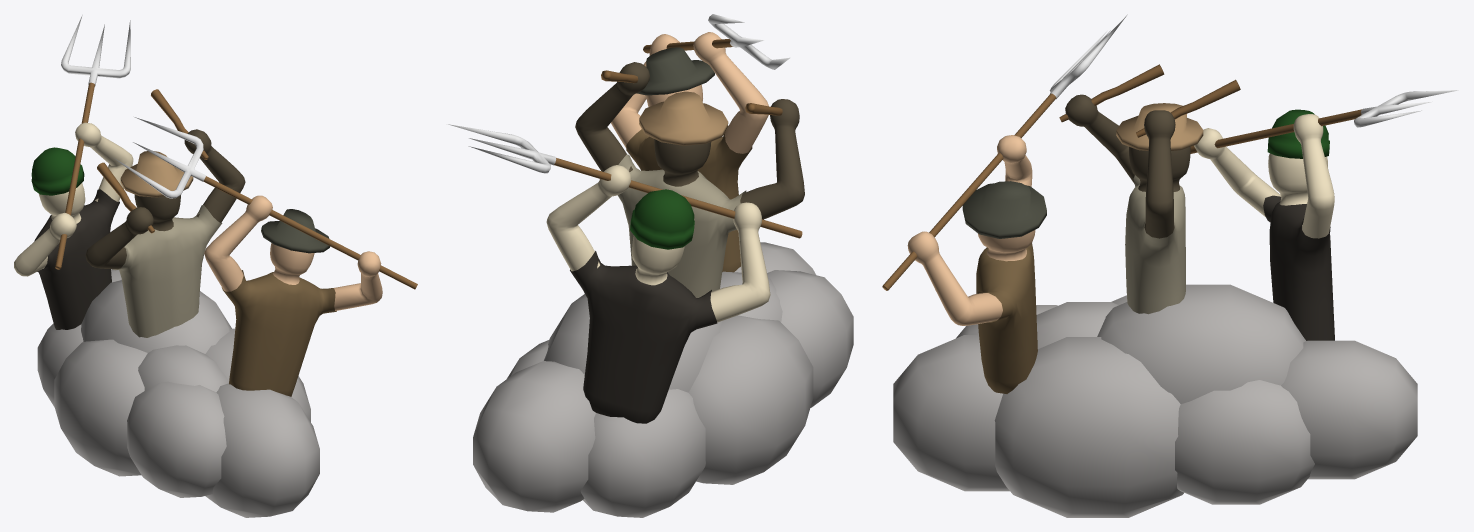
The model's file is Mobs.fbx.
3 renders of one model, left to right at view 1: azimuth 30°, elevation 25°; view 2: azimuth 150°, elevation 25°; view 3: azimuth 270°, elevation 25°, orthographic. The views are drawn at different scales.
Parts seen in each view (by area): view 1: Cube, Cube.001, Cube.003, Cube.002, Cube.004, Cube.005, Cube.006, Cylinder.001, Cylinder.002, Cylinder, Cube.008, Cube.007 (+4 smaller); view 2: Cube, Cube.002, Cube.005, Cube.006, Cube.003, Cube.004, Cylinder.002, Cube.001, Cylinder.001, Cylinder, Cube.010, Cube.009 (+1 smaller); view 3: Cube, Cube.006, Cube.002, Cube.001, Cube.005, Cube.003, Cube.004, Cylinder, Cylinder.002, Cube.007, Cylinder.001, Cube.010 (+4 smaller).
Boxes of the visible parts, left/top/right/bottom form: Cube: left=37, top=269, right=319, bottom=517; Cube.001: left=221, top=270, right=336, bottom=396; Cube.003: left=113, top=205, right=222, bottom=337; Cube.002: left=34, top=189, right=119, bottom=329; Cube.004: left=204, top=195, right=382, bottom=310; Cube.005: left=85, top=129, right=245, bottom=269; Cube.006: left=14, top=122, right=133, bottom=276; Cylinder.001: left=31, top=147, right=84, bottom=195; Cylinder.002: left=120, top=151, right=193, bottom=197; Cylinder: left=261, top=209, right=330, bottom=253; Cube.008: left=114, top=117, right=206, bottom=198; Cube.007: left=203, top=176, right=417, bottom=289; Cube: left=473, top=242, right=853, bottom=517; Cube.002: left=570, top=251, right=717, bottom=423; Cube.005: left=575, top=62, right=804, bottom=219; Cube.006: left=546, top=165, right=770, bottom=322; Cube.003: left=617, top=154, right=746, bottom=297; Cube.004: left=611, top=32, right=768, bottom=153; Cylinder.002: left=639, top=91, right=728, bottom=145; Cube.001: left=626, top=125, right=752, bottom=272; Cylinder.001: left=630, top=189, right=694, bottom=249; Cylinder: left=637, top=47, right=714, bottom=95; Cube.010: left=448, top=124, right=556, bottom=173; Cube.009: left=554, top=158, right=802, bottom=238; Cube: left=893, top=284, right=1417, bottom=517; Cube.006: left=1194, top=114, right=1334, bottom=238; Cube.002: left=1263, top=195, right=1334, bottom=340; Cube.001: left=976, top=243, right=1037, bottom=393; Cube.005: left=1065, top=94, right=1190, bottom=238; Cube.003: left=1125, top=175, right=1185, bottom=314; Cube.004: left=907, top=135, right=1035, bottom=325; Cylinder: left=962, top=181, right=1046, bottom=238; Cylinder.002: left=1116, top=103, right=1203, bottom=150; Cube.007: left=882, top=93, right=1056, bottom=290; Cylinder.001: left=1267, top=109, right=1329, bottom=158; Cube.010: left=1354, top=90, right=1458, bottom=127.
Bounding box in the file's own units: 824 × 1158 × 1366.
